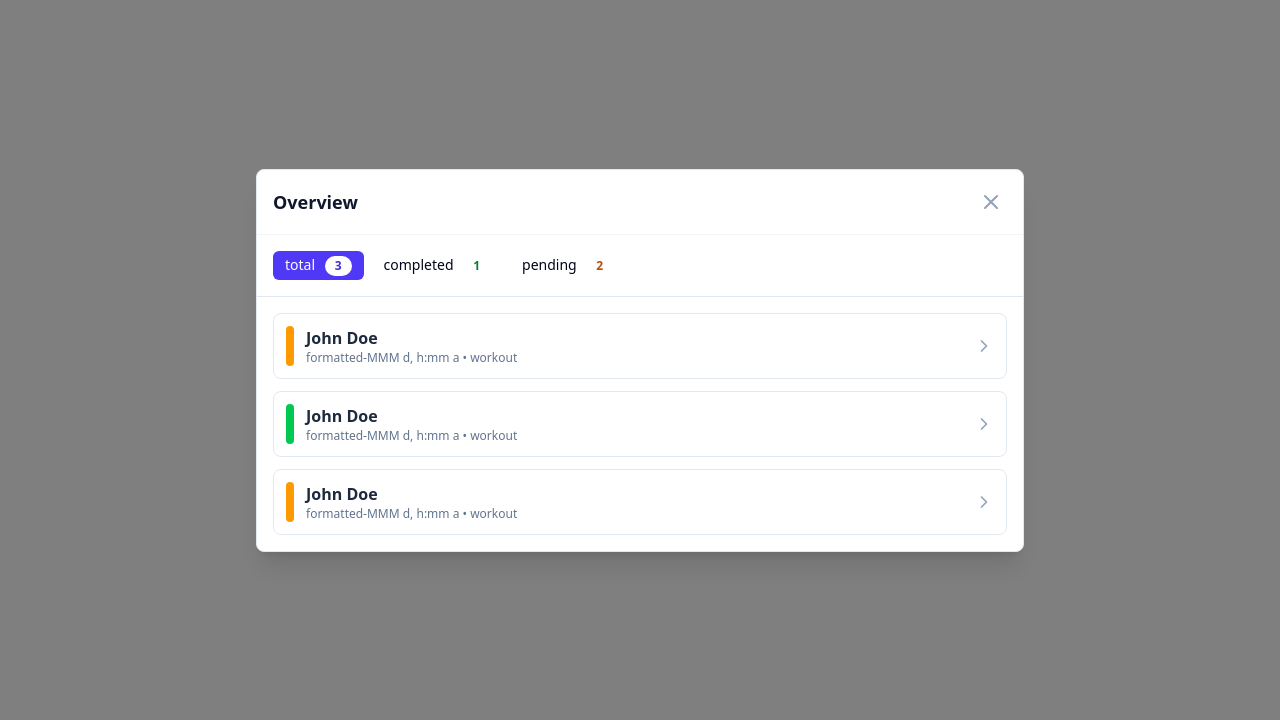
it: OverviewModal › filters to completed sessions when completed tab is clicked
Click the button "completed 1" at (437, 265), box [372,250,502,280]
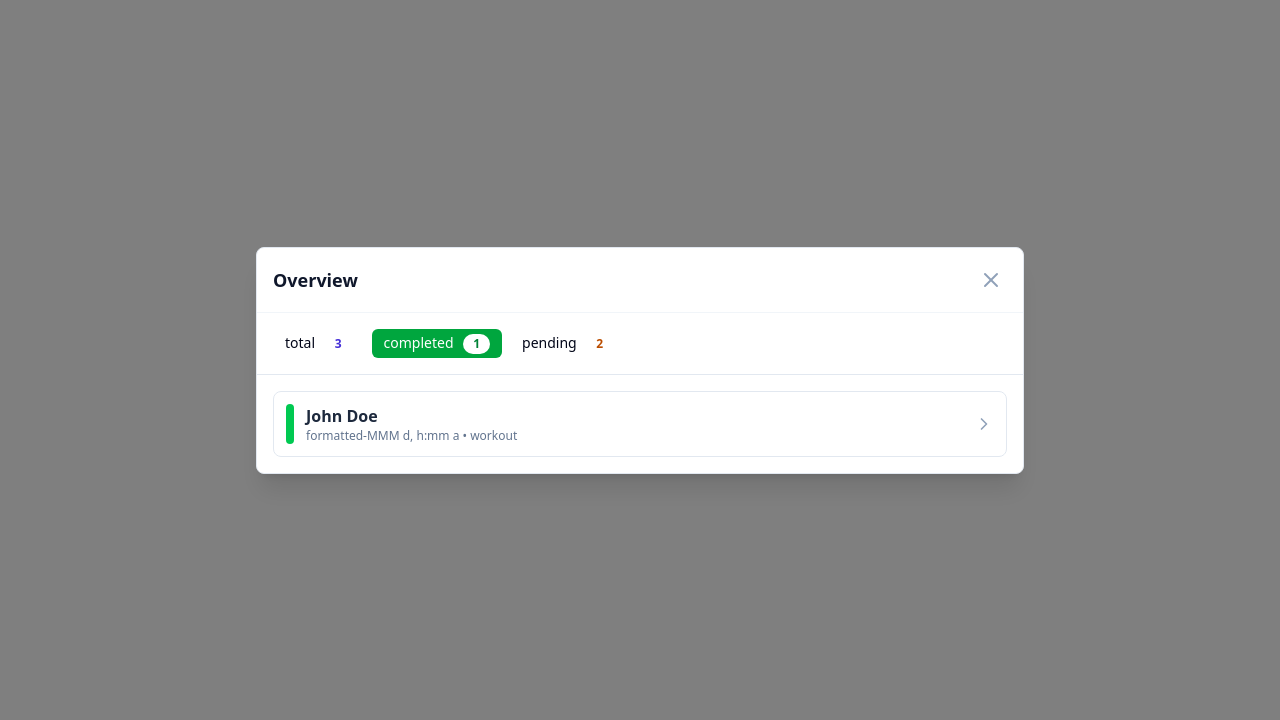
Expected: the text "John Doe" is shown once, [306,404,378,426]
